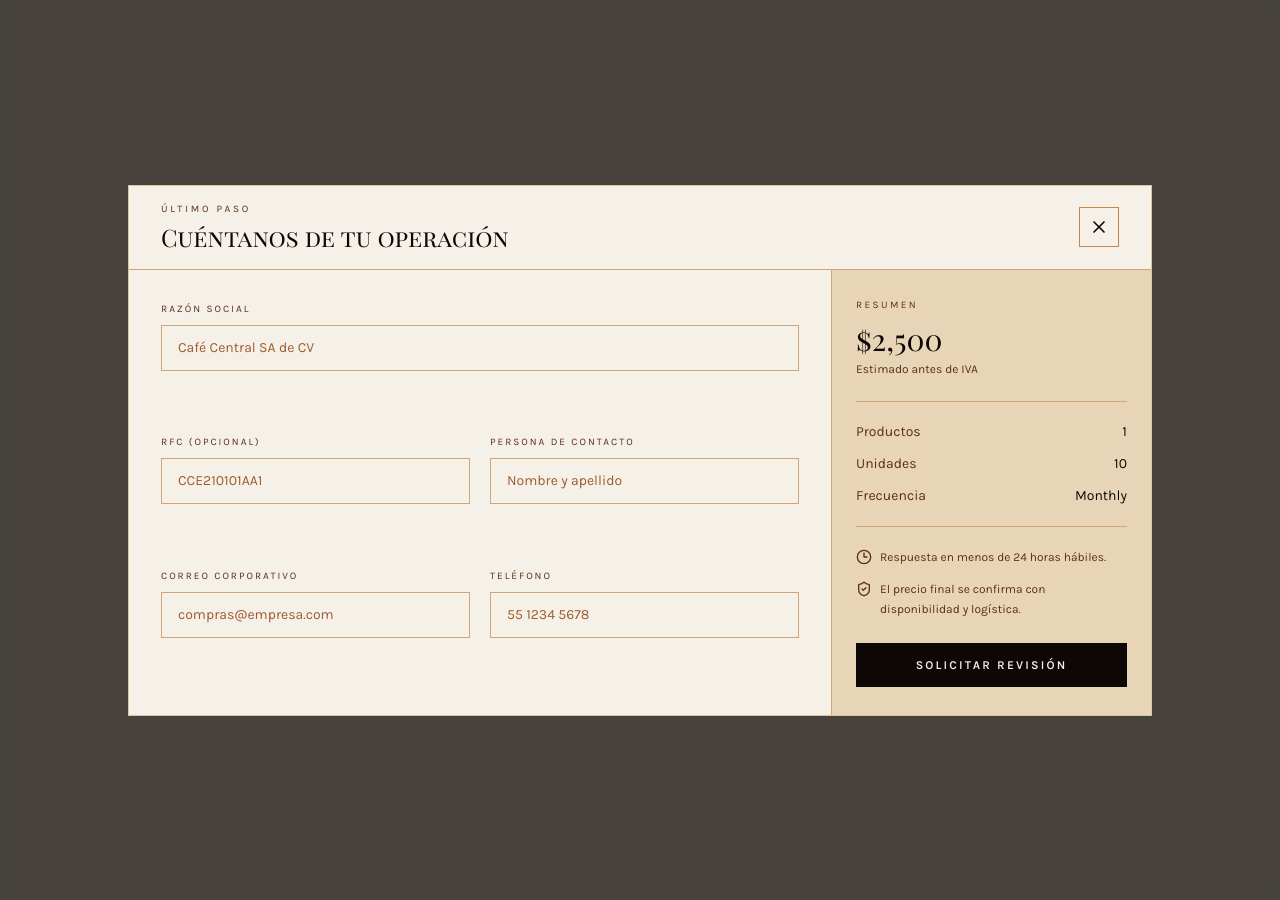
it: B2BInquiryForm › conserva el contacto y no permite cerrar mientras se envía
The image size is (1280, 900).
Type "Café Central" into the field labelled "Razón social" at coordinates (480, 348), box left=161, top=324, right=799, bottom=370
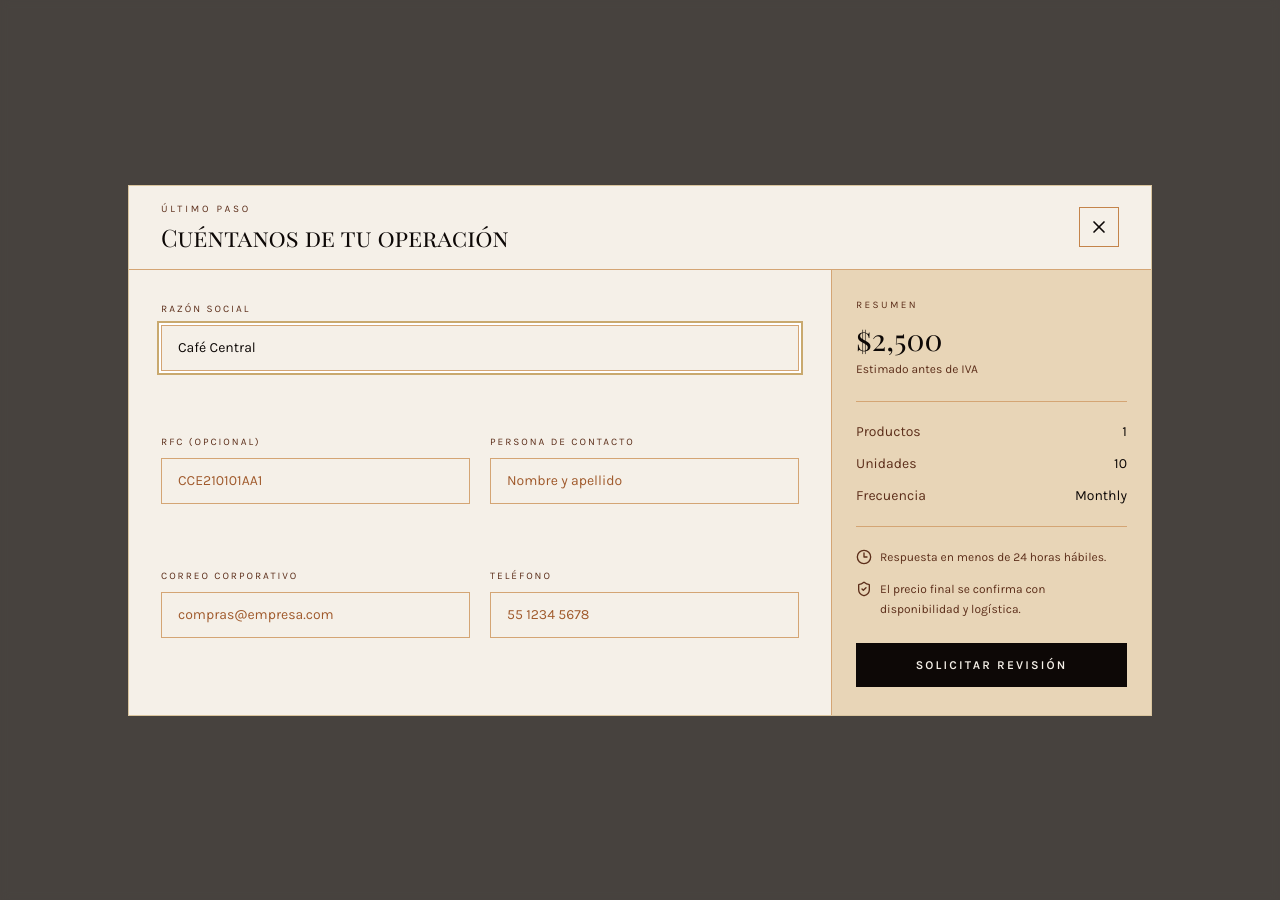
Type "Ana Pérez" into the field labelled "Persona de contacto" at coordinates (644, 481), box left=490, top=458, right=799, bottom=504
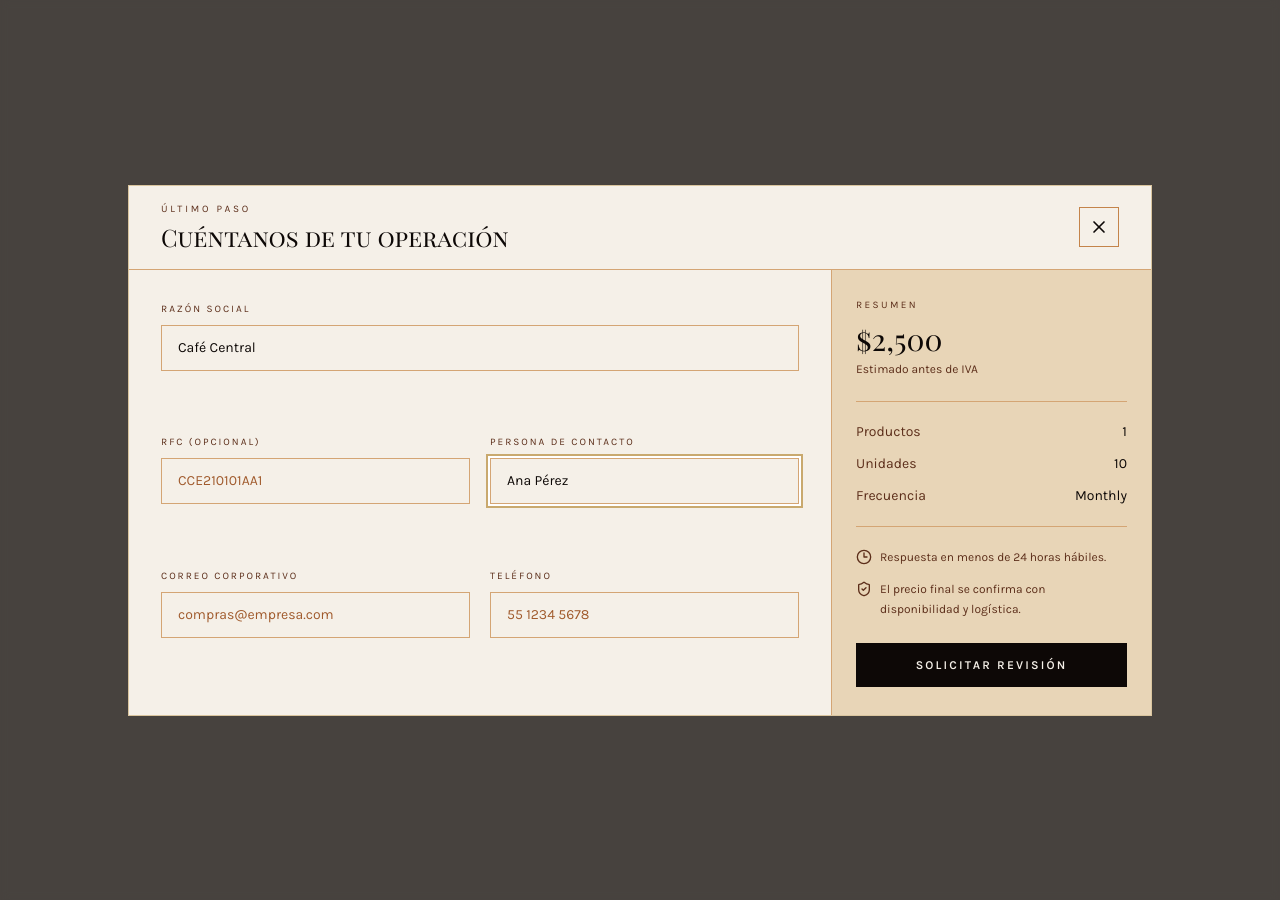
Type "ana@central.mx" into the field labelled "Correo corporativo" at coordinates (316, 615), box left=161, top=592, right=470, bottom=638
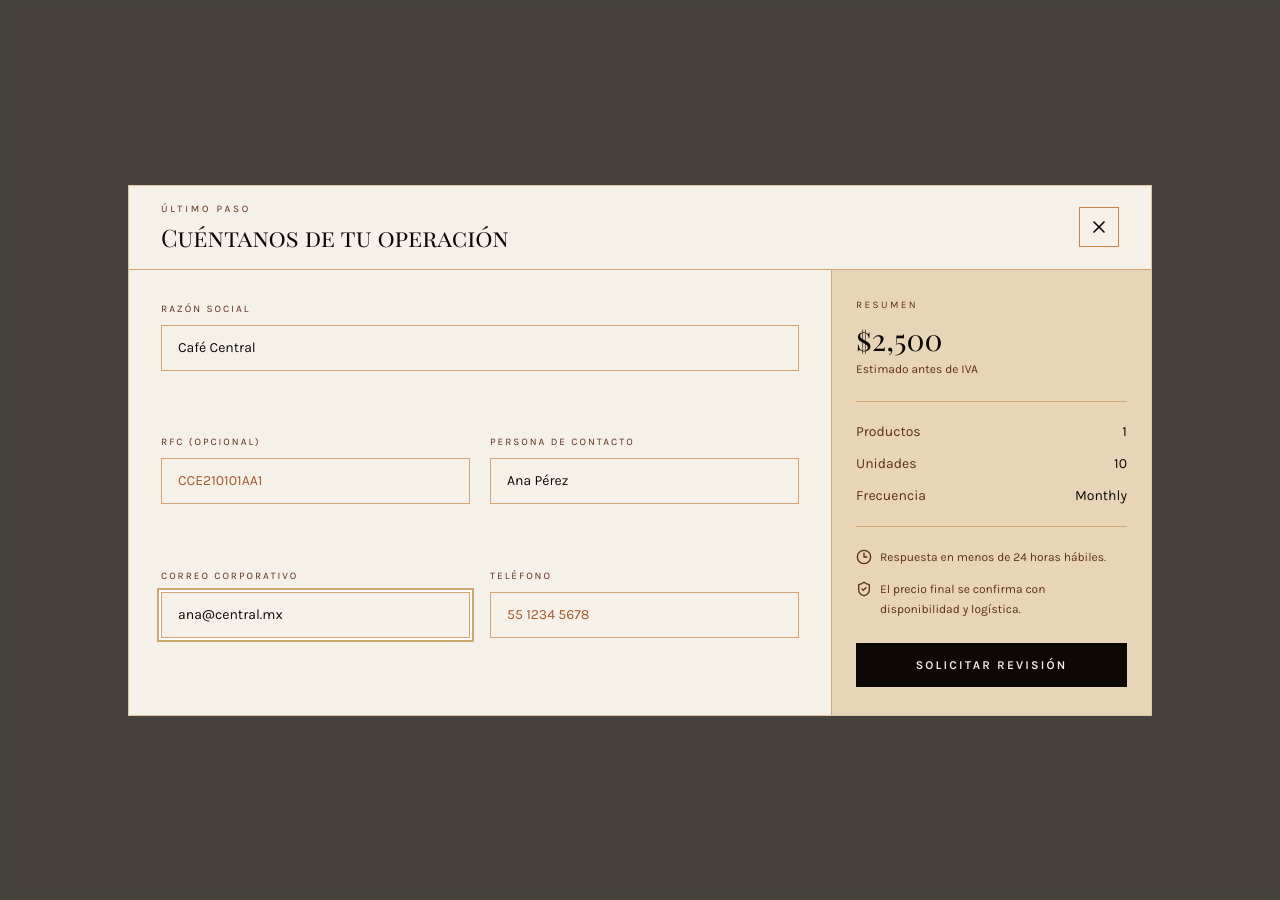
Type "5512345678" into the field labelled "Teléfono" at coordinates (644, 615), box left=490, top=592, right=799, bottom=638
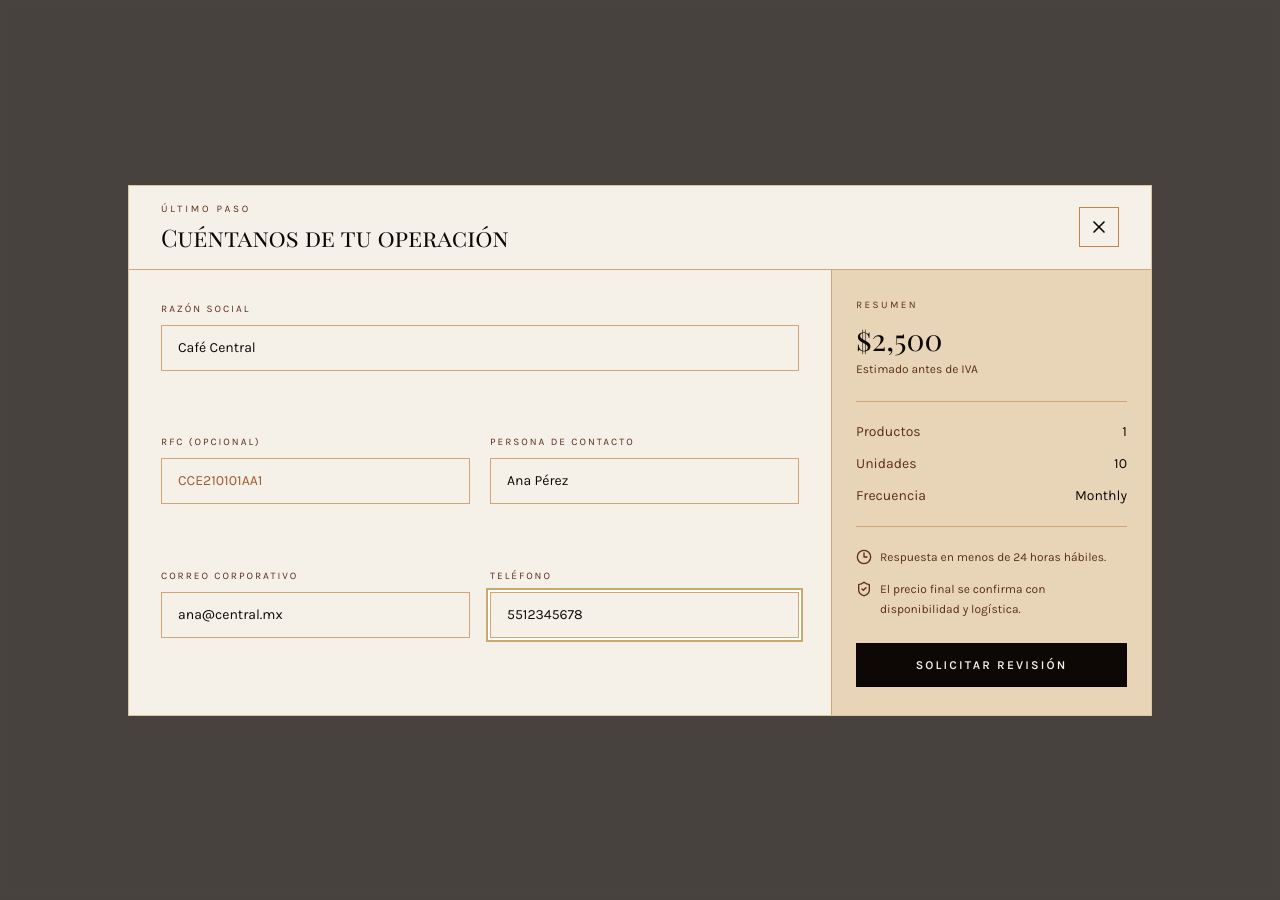
Click the button "Solicitar revisión" at coordinates (992, 664), box left=856, top=642, right=1127, bottom=686
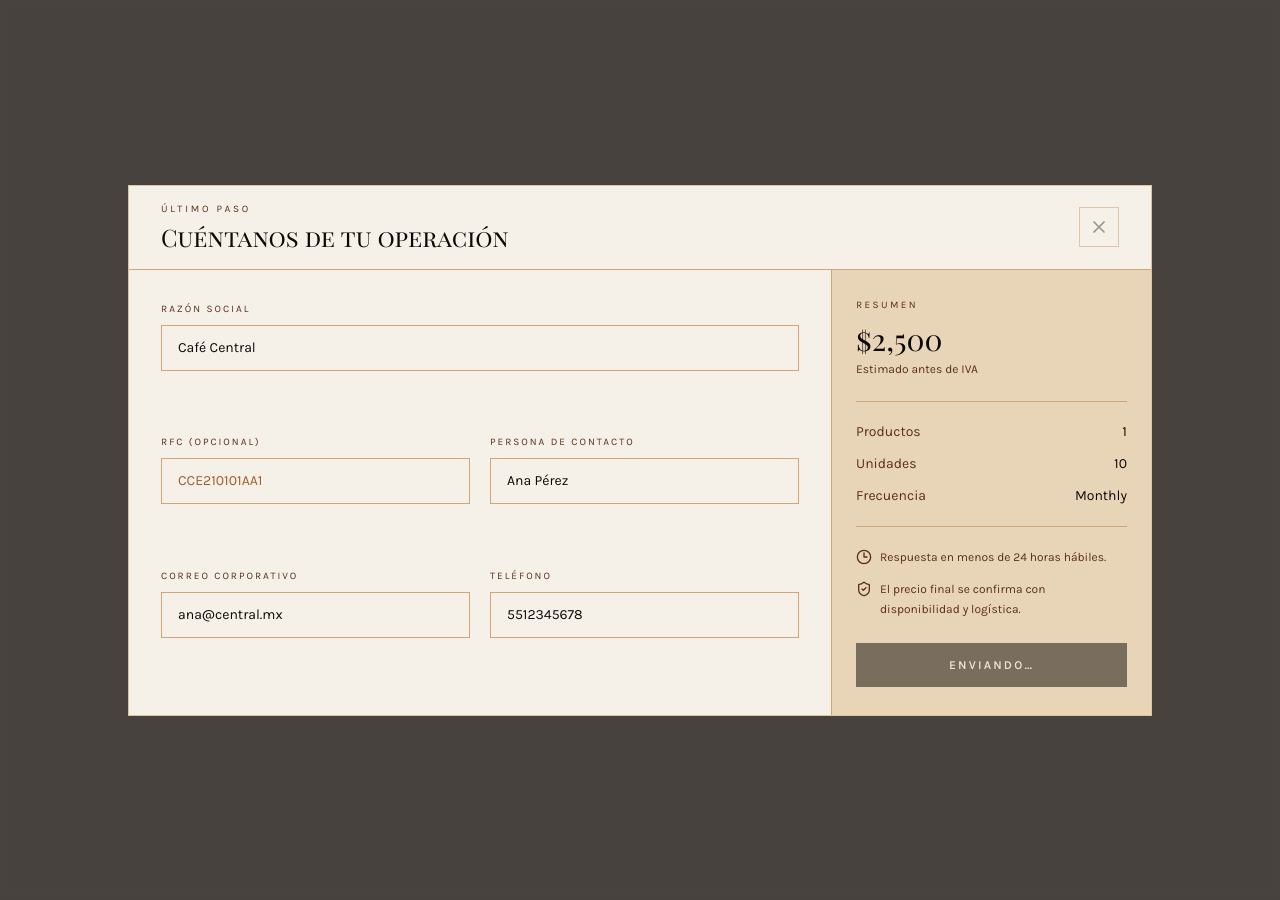
Expected: the button "Enviando…" is disabled, left=856, top=642, right=1127, bottom=686
Press Escape
Click the button named "cerrar" at coordinates (1099, 227), box left=1079, top=207, right=1119, bottom=247
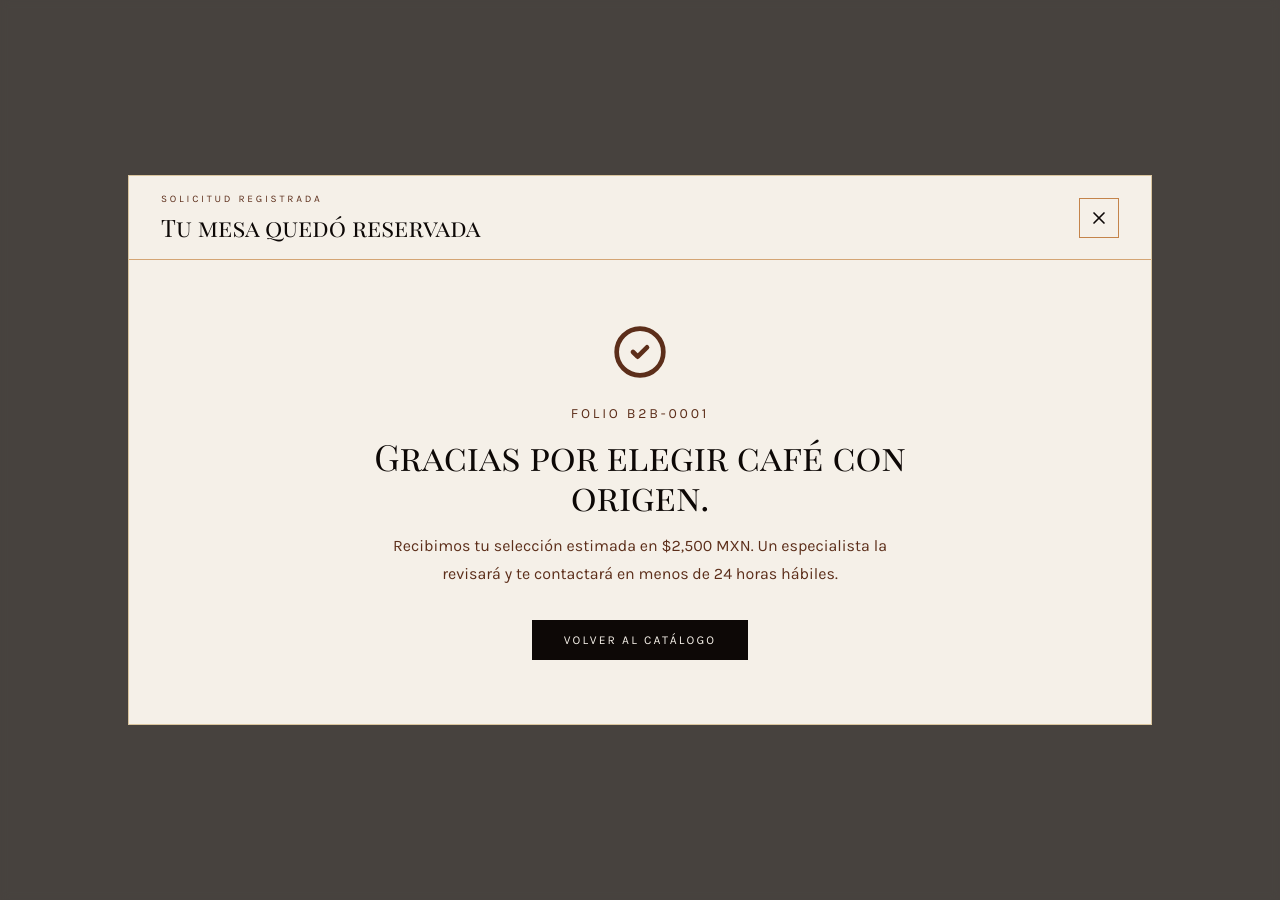
Expected: the text "Folio B2B-0001" is shown, left=571, top=405, right=709, bottom=422
